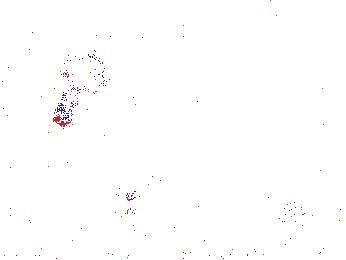flame jellyfish: (51, 46, 113, 126), (273, 173, 346, 230), (113, 148, 163, 204)
